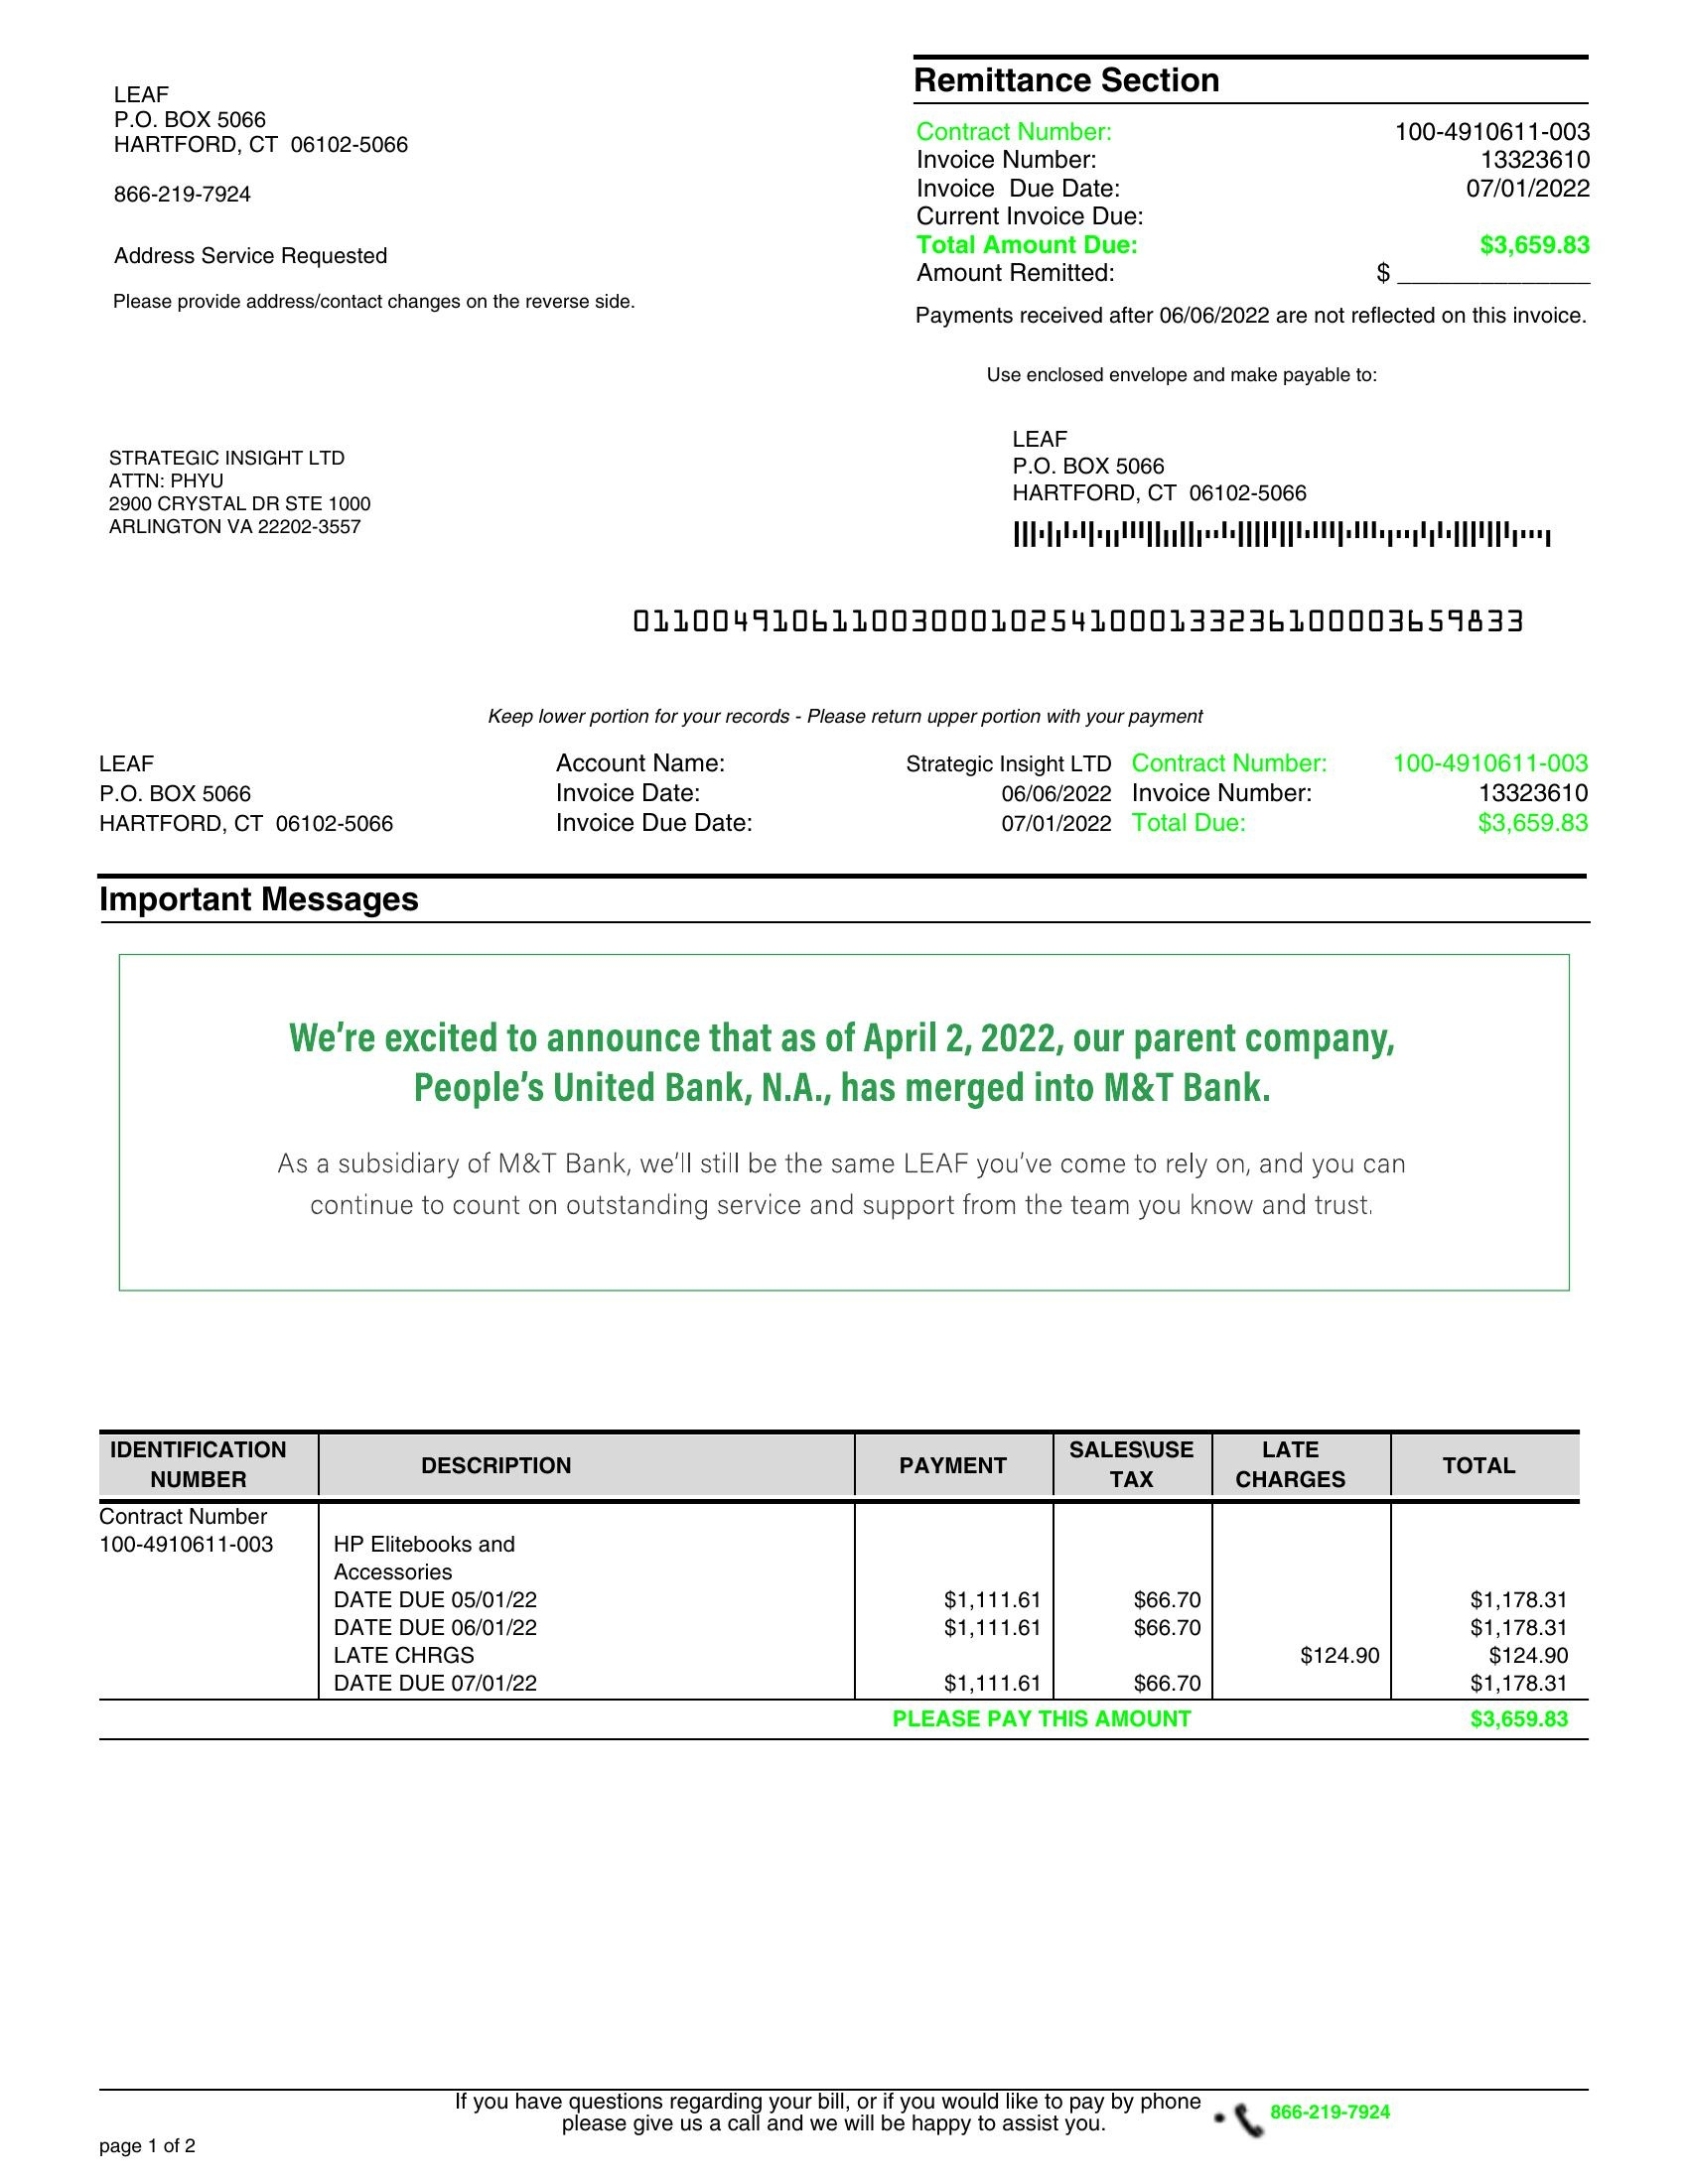0 table: (76, 1411, 1585, 1739)
